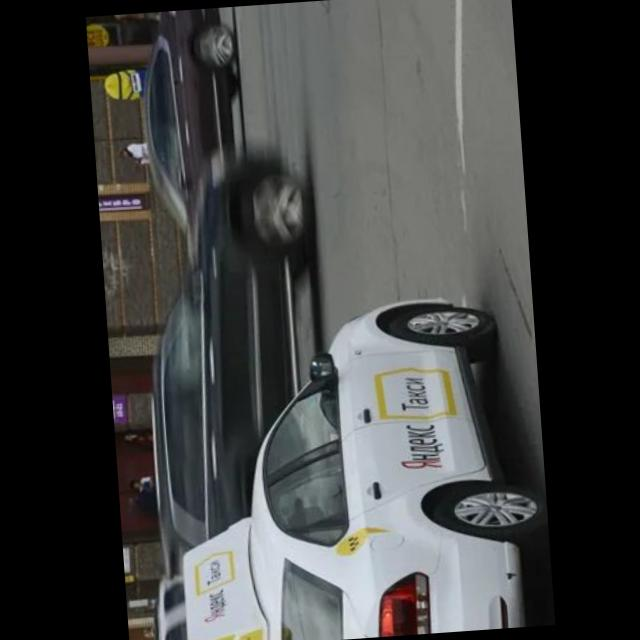taxi: (161, 290, 555, 640)
